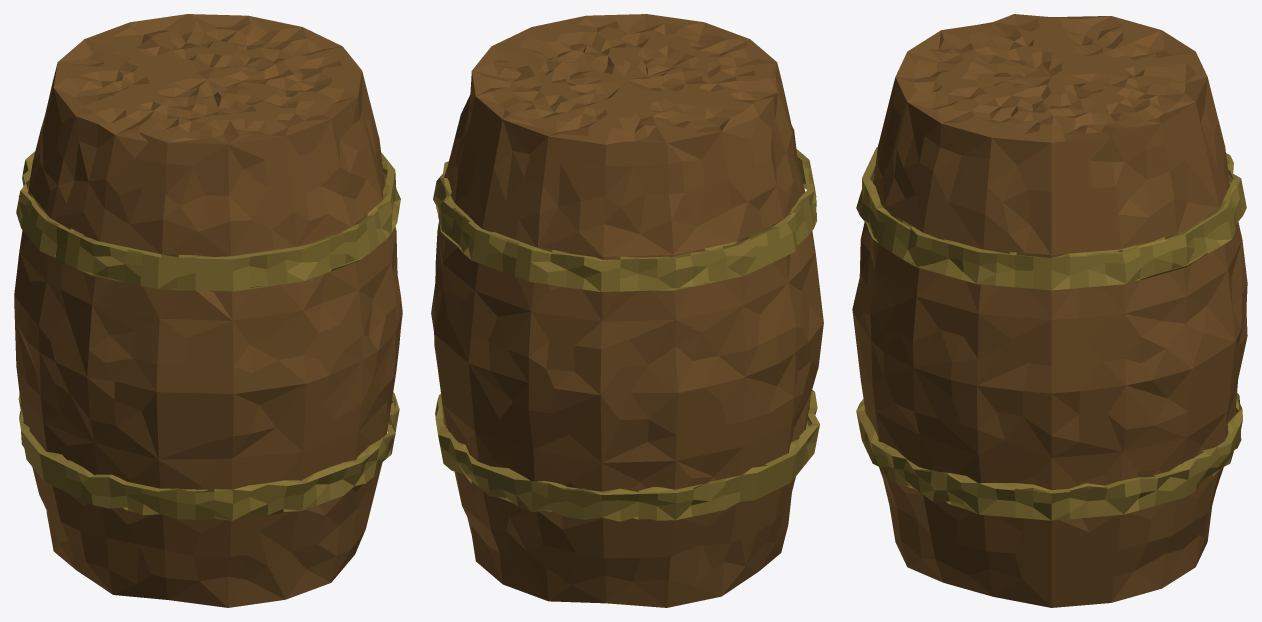
Rendered from barrel.fbx.
3 renders of one model, left to right at view 1: azimuth 30°, elevation 25°; view 2: azimuth 150°, elevation 25°; view 3: azimuth 270°, elevation 25°, orthographic.
Parts seen in each view (by area): view 1: Barrel, Barrel bind; view 2: Barrel, Barrel bind; view 3: Barrel, Barrel bind.
Boxes of the visible parts, x1,y1,x2,y2 form: Barrel: [14, 14, 402, 607]; Barrel bind: [16, 151, 400, 520]; Barrel: [431, 14, 823, 607]; Barrel bind: [433, 149, 819, 521]; Barrel: [852, 14, 1247, 607]; Barrel bind: [856, 147, 1246, 520].
Size of the model in its own units: 232 by 301 by 232.
